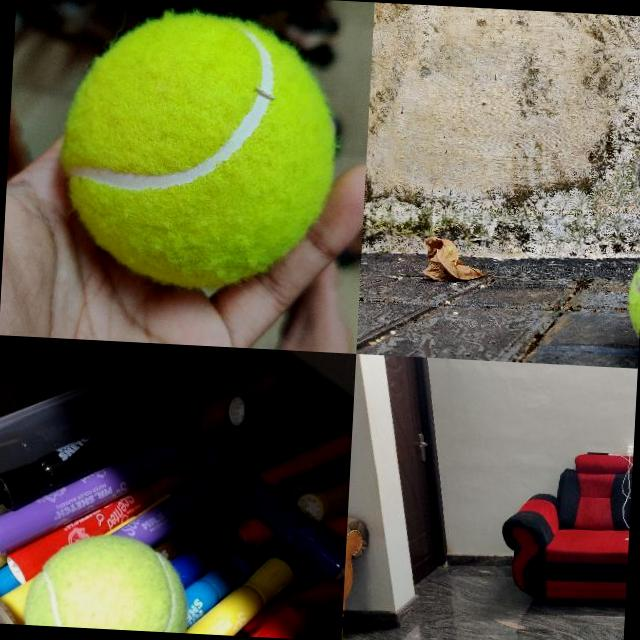Tennis Ball: (56, 8, 342, 294), (24, 530, 192, 632)
